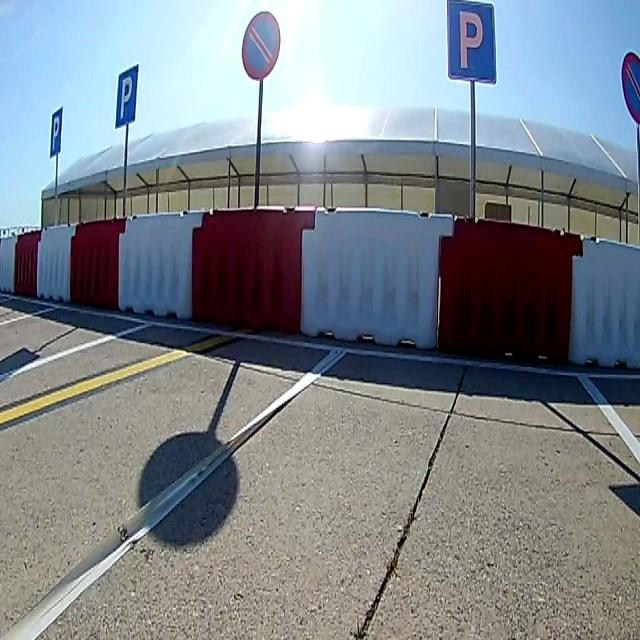park: (448, 1, 496, 83), (116, 66, 136, 128), (50, 106, 61, 154)
parkyasak: (242, 13, 280, 78)
